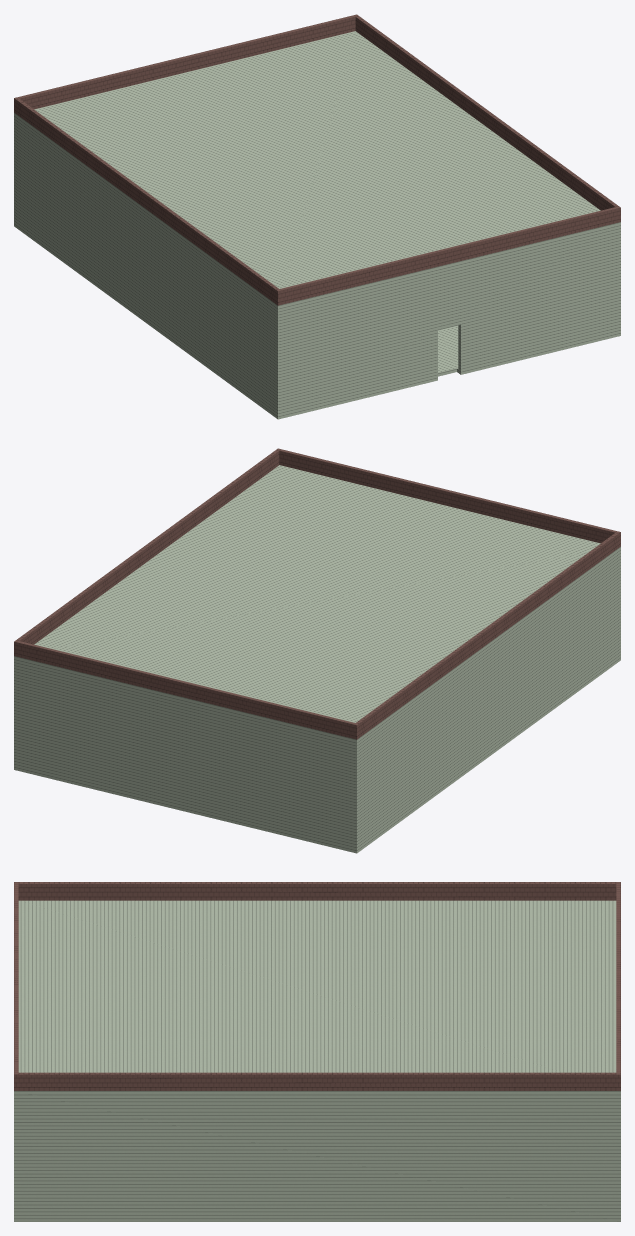
File: funeral_home.glb
3 renders of one model, top to bottom at view 1: azimuth 30°, elevation 25°; view 2: azimuth 150°, elevation 25°; view 3: azimuth 270°, elevation 25°, orthographic. The views are drawn at different scales.
Visible parts, largest first — view 1: funeral_home-col; view 2: funeral_home-col; view 3: funeral_home-col.
Part boxes in pixels (box(x1,y1,x2,y2)): funeral_home-col: box(14, 14, 620, 419); funeral_home-col: box(14, 448, 620, 853); funeral_home-col: box(14, 882, 620, 1221).
Bounding box in the file's own units: 15 × 5.36 × 20.
2 materials, 2 textured.
